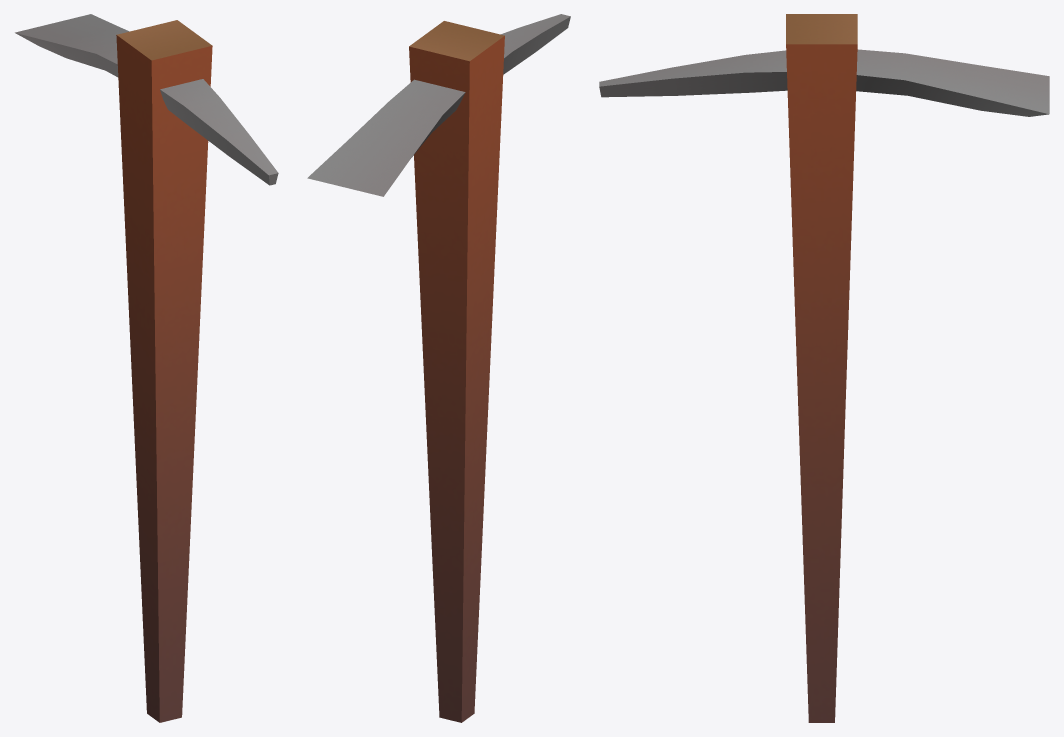
File: Hammer.fbx
The picture shows the model from 3 angles, left to right: view 1: azimuth 30°, elevation 25°; view 2: azimuth 150°, elevation 25°; view 3: azimuth 270°, elevation 25°; orthographic projection. The views are drawn at different scales.
Parts seen in each view (by area): view 1: polySurface40; view 2: polySurface40; view 3: polySurface40.
Boxes of the visible parts, x1=… form: polySurface40: x1=15, y1=14, x2=278, y2=722; polySurface40: x1=307, y1=14, x2=570, y2=722; polySurface40: x1=599, y1=14, x2=1049, y2=722.
Bounding box in the file's own units: 0.1069 × 0.9 × 0.5339.
Materials: 1 (1 with a texture image).
